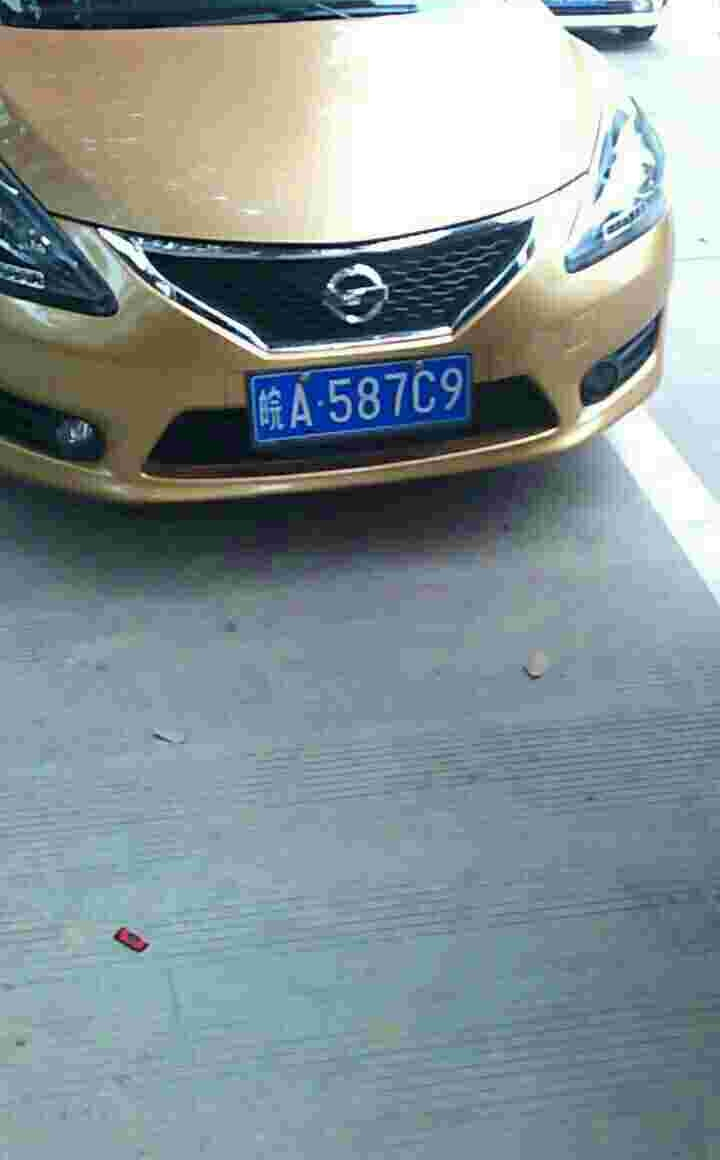license_plate: (233, 346, 491, 453)
